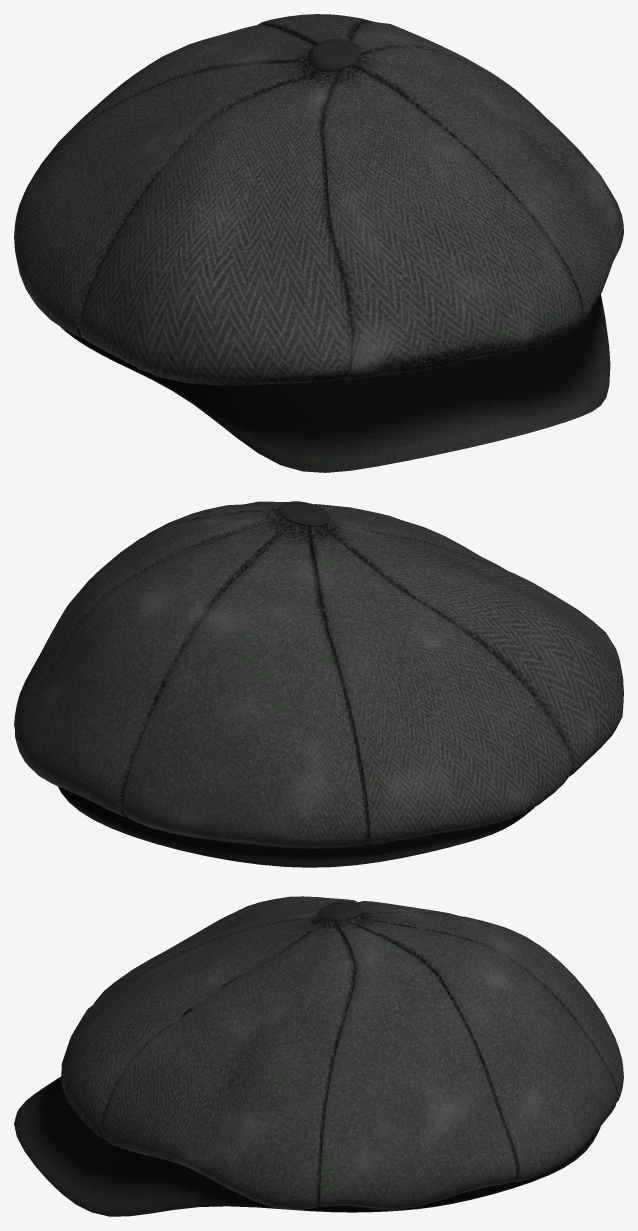
File: flat_cap.glb
The picture shows the model from 3 angles, top to bottom: view 1: azimuth 30°, elevation 25°; view 2: azimuth 150°, elevation 25°; view 3: azimuth 270°, elevation 25°; orthographic projection. The views are drawn at different scales.
Parts seen in each view (by area): view 1: Flathat; view 2: Flathat; view 3: Flathat.
Boxes of the visible parts, box(x1,y1,x2,y2) form: Flathat: box(14, 14, 623, 472); Flathat: box(14, 501, 623, 867); Flathat: box(14, 896, 623, 1216).
Size of the model in its own units: 2.63 by 1.34 by 2.97.
Materials: 1 (1 with a texture image).
